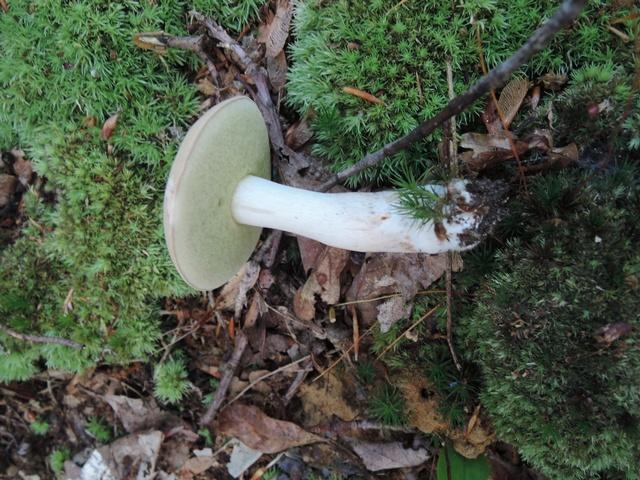Edible Mushroom: (160, 94, 500, 292)
